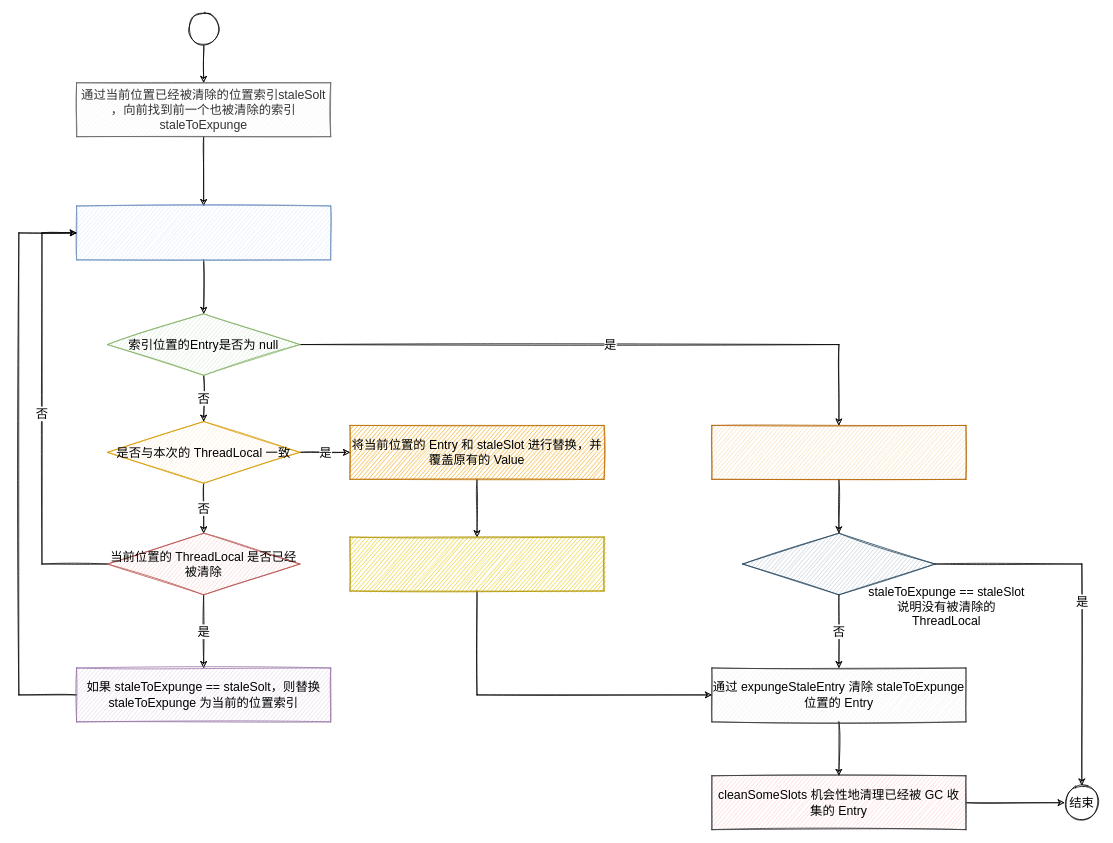
Image size: 1113x843. Some labels were removed from this diagram. Each missing label, with the centre of its shape:
"staleToExpunge == staleSlot" belongs at [838,563].
"如果 staleToExpunge == staleSlot，则替换 staleToExpunge 为当前的位置索引" belongs at [476,563].
"开始" belongs at [203,28].
"说明这是一个新的 ThreadLocal，需要创建新的 Entry" belongs at [838,452].
"通过线性探测的方式对下一个位置进行检索" belongs at [203,232].
